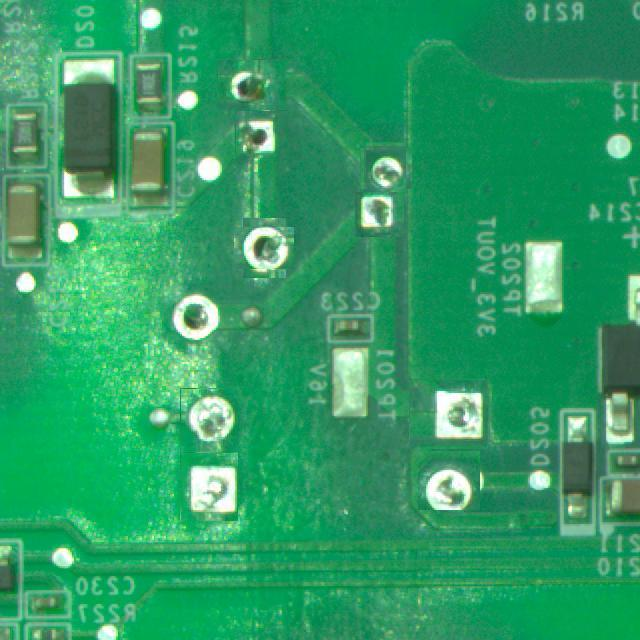lack_of_part: (409, 379, 488, 449), (180, 452, 238, 521), (160, 286, 221, 349), (418, 450, 479, 511), (180, 388, 239, 451), (217, 59, 286, 110), (239, 222, 290, 274), (235, 110, 289, 158), (355, 192, 404, 237), (363, 145, 409, 192)
